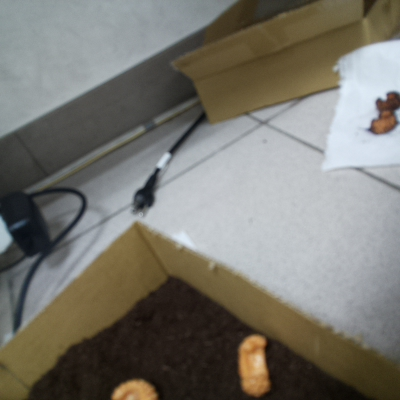eggs: (229, 329, 281, 400), (103, 375, 167, 400)
